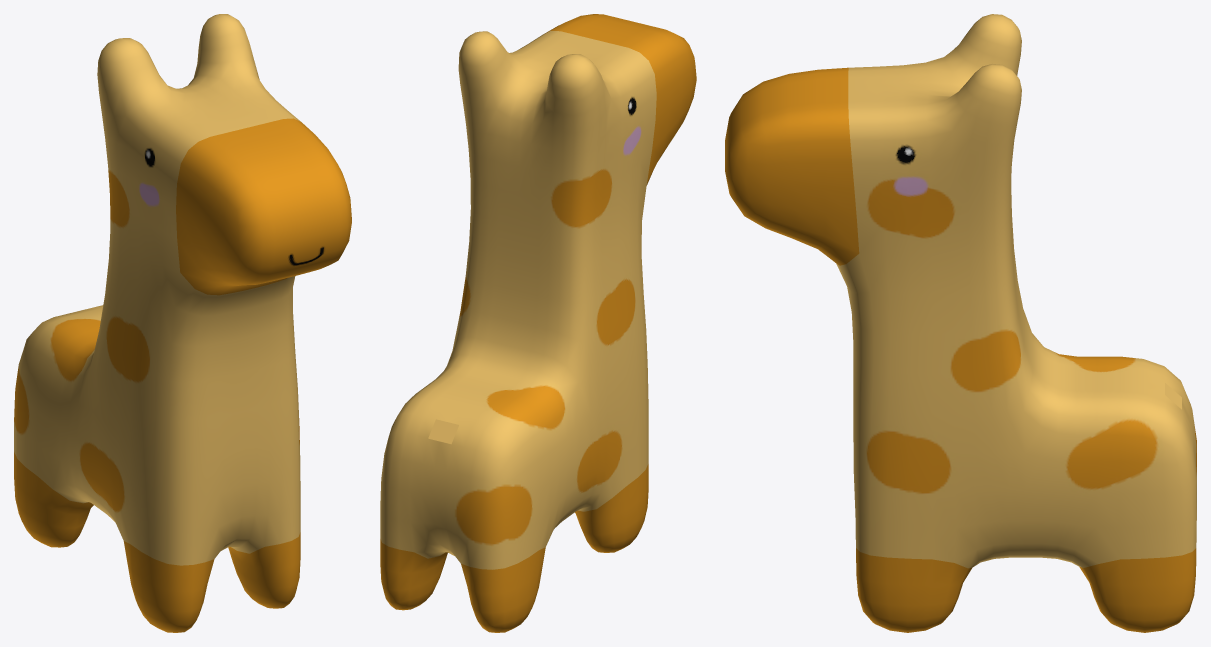
File: Giraffe_.fbx
3 views of the same model, side by side, from view 1: azimuth 30°, elevation 25°; view 2: azimuth 150°, elevation 25°; view 3: azimuth 270°, elevation 25° (orthographic). The views are drawn at different scales.
Parts seen in each view (by area): view 1: pCube1; view 2: pCube1; view 3: pCube1.
Part boxes in pixels (box(x1,y1,x2,y2)): pCube1: box(14, 14, 351, 632); pCube1: box(380, 14, 696, 632); pCube1: box(725, 14, 1196, 632).
Size of the model in its own units: 0.9937 by 3.59 by 2.71.
